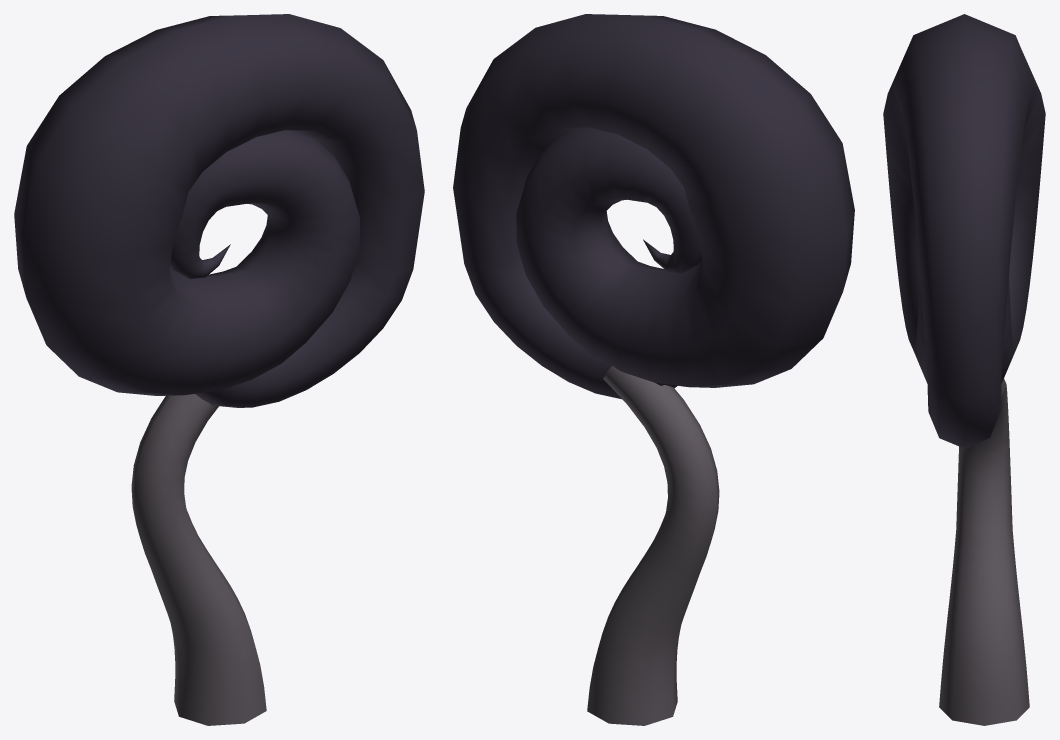
Rendered from decor-treeswirl.glb.
The picture shows the model from 3 angles, left to right: view 1: azimuth 30°, elevation 25°; view 2: azimuth 150°, elevation 25°; view 3: azimuth 270°, elevation 25°; orthographic projection. The views are drawn at different scales.
Visible parts, largest first — view 1: Tree_Swirl_2; view 2: Tree_Swirl_2; view 3: Tree_Swirl_2.
Part boxes in pixels (bbox=[...]): Tree_Swirl_2: bbox=[14, 14, 424, 725]; Tree_Swirl_2: bbox=[453, 14, 854, 725]; Tree_Swirl_2: bbox=[883, 14, 1045, 725].
Bounding box in the file's own units: 2.98 × 5 × 1.11.
Materials: 1 (1 with a texture image).
